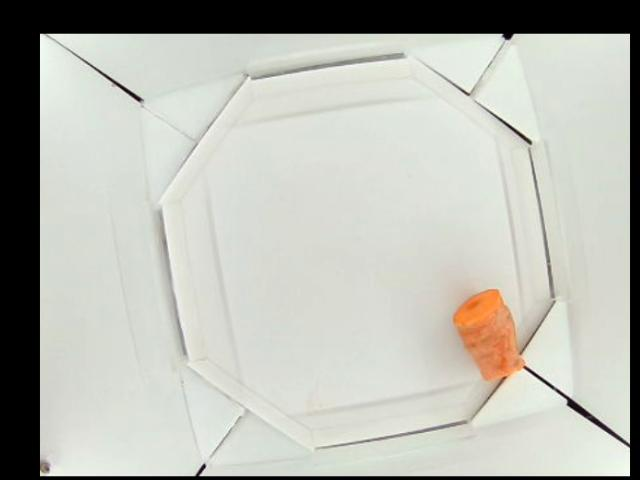Carrot: (454, 288, 526, 380)
